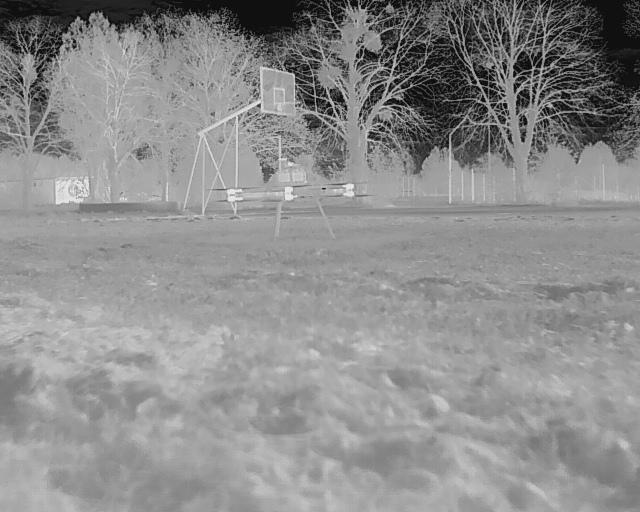drone: (206, 166, 364, 248)
